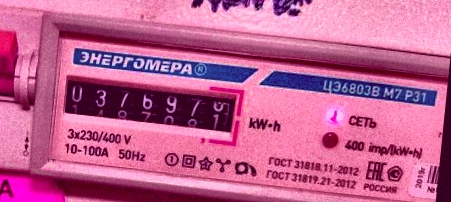0: (69, 82, 84, 103)
1: (209, 111, 221, 130)
3: (92, 86, 107, 108)
6: (139, 88, 154, 110)
7: (115, 87, 130, 109), (187, 95, 201, 118)
9: (163, 93, 177, 115)
screen: (53, 66, 248, 148)
